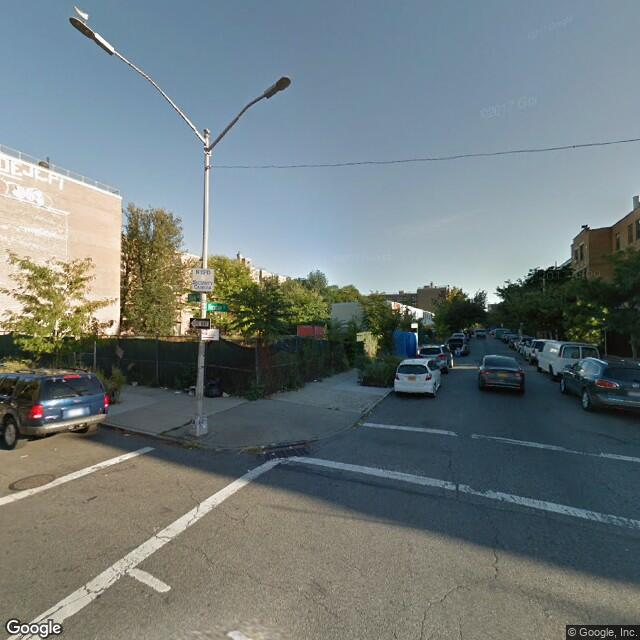litter: (220, 388, 230, 399), (18, 452, 31, 459), (122, 430, 130, 436), (268, 452, 276, 458), (131, 381, 138, 386), (287, 443, 294, 448), (172, 390, 179, 394), (259, 449, 267, 451), (245, 467, 249, 471), (367, 409, 372, 412), (52, 448, 58, 450), (163, 385, 165, 388), (312, 378, 315, 380)
